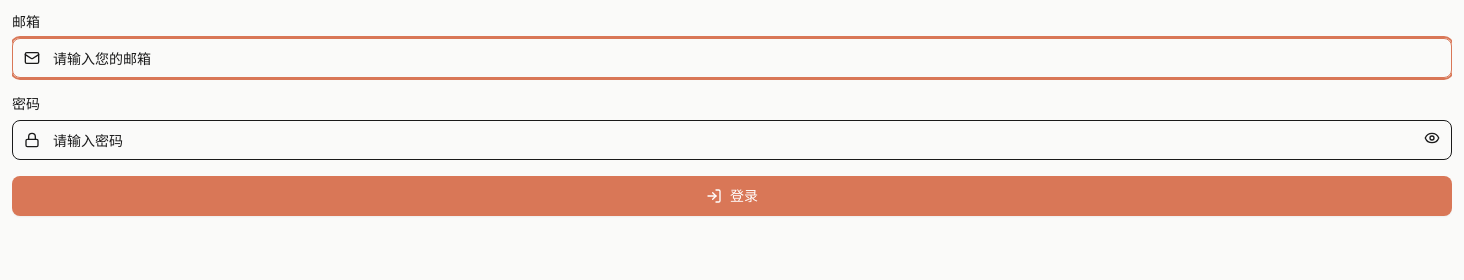
Test: LoginForm 组件 › 非法邮箱格式 - 显示错误
Type "test@invalid" into the field with placeholder "请输入您的邮箱" at (732, 58), box [12,38,1452,78]
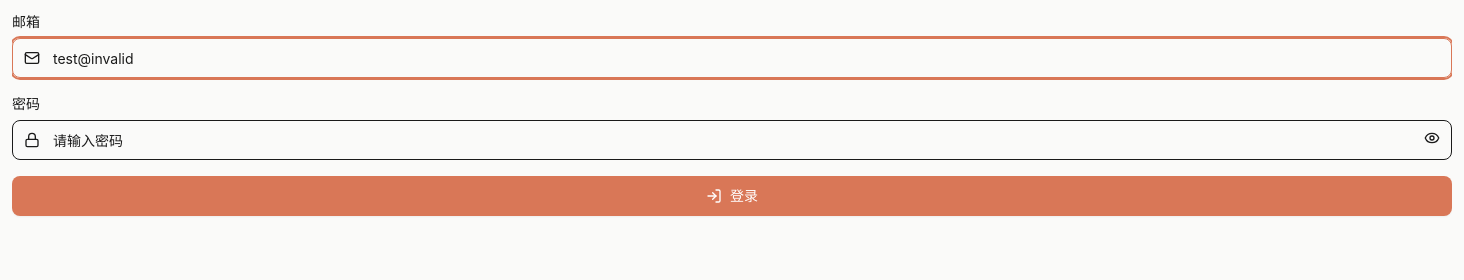
Click the button "登录" at (732, 196), box [12,176,1452,216]
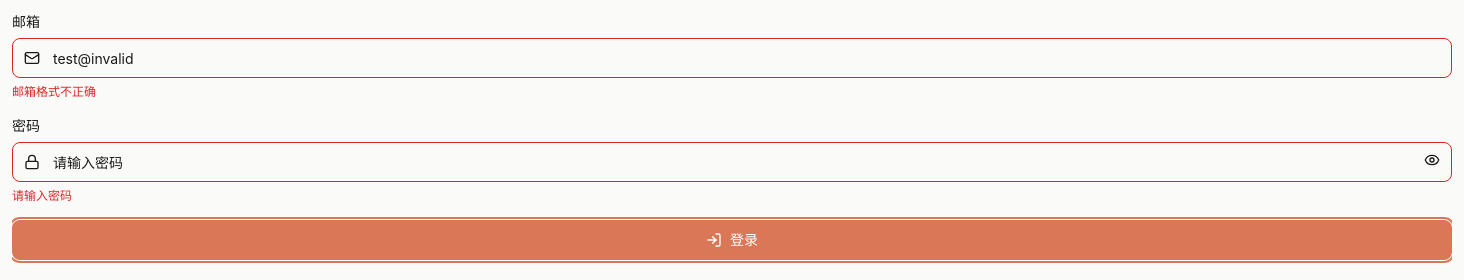
Expected: the text "邮箱格式不正确" is shown, [12,84,96,99]
